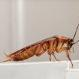cockroach: (7, 35, 74, 62)
